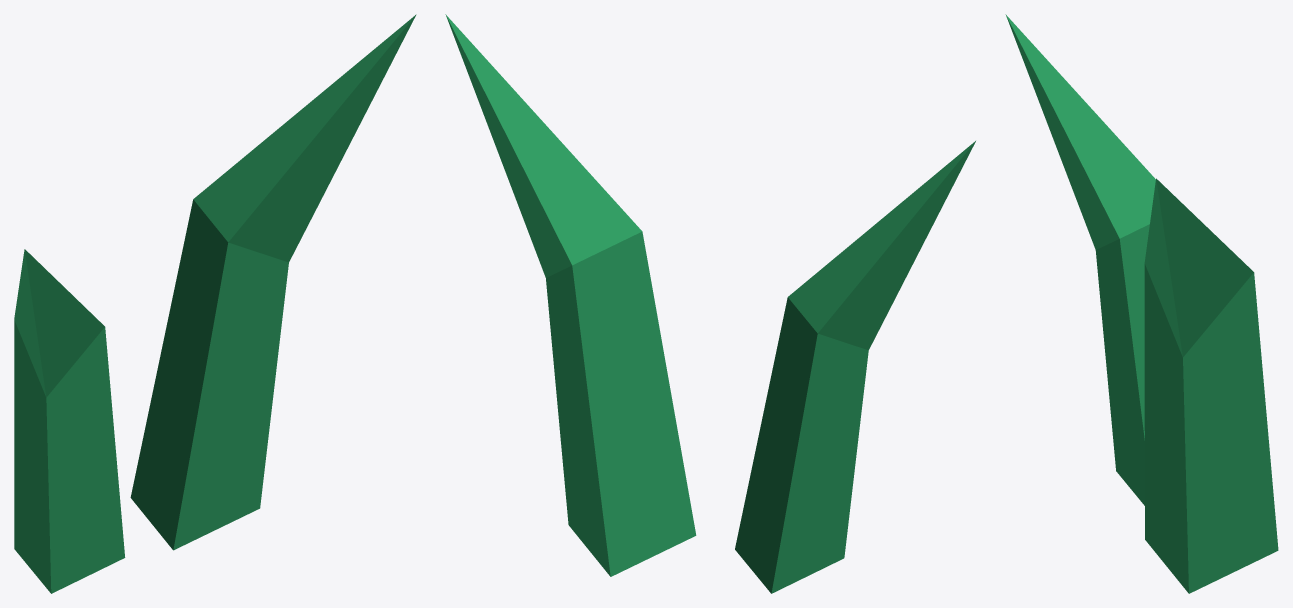
File: gras_03.fbx
The picture shows the model from 3 angles, left to right: view 1: azimuth 30°, elevation 25°; view 2: azimuth 150°, elevation 25°; view 3: azimuth 270°, elevation 25°; orthographic projection. The views are drawn at different scales.
Visible parts, largest first — view 1: Circle.018; view 2: Circle.018; view 3: Circle.018.
Boxes of the visible parts, x1,y1,x2,y2 form: Circle.018: (14, 14, 416, 593); Circle.018: (445, 14, 975, 593); Circle.018: (1005, 14, 1278, 593).
Bounding box in the file's own units: 0.2754 × 0.267 × 0.1358.
